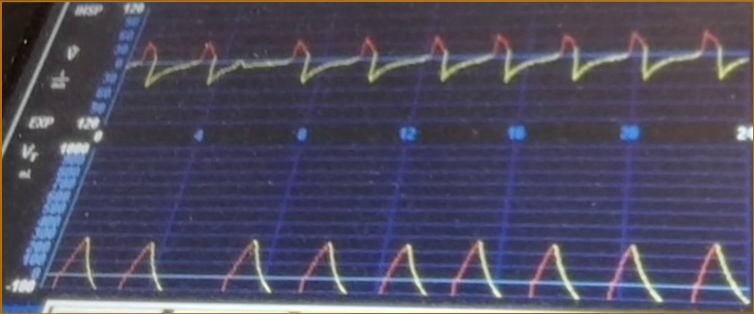Ineffective_effort Flow: (135, 18, 747, 109)
Ineffective_effort Volume: (52, 219, 749, 300)
